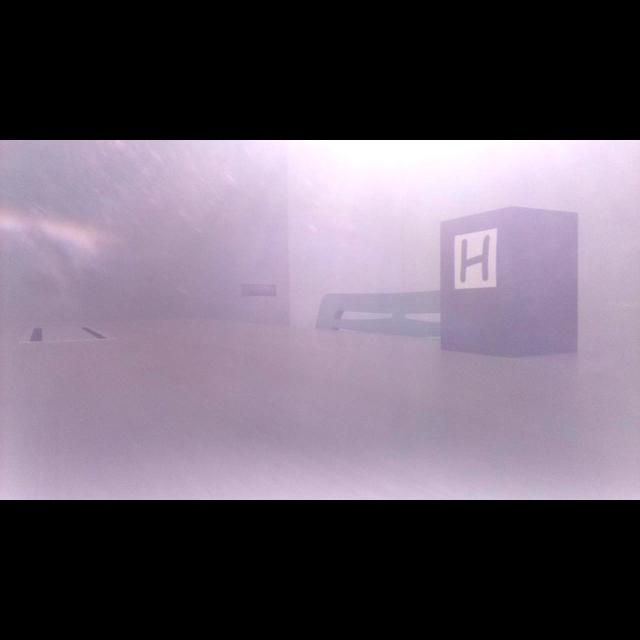H: (460, 235, 490, 283)
